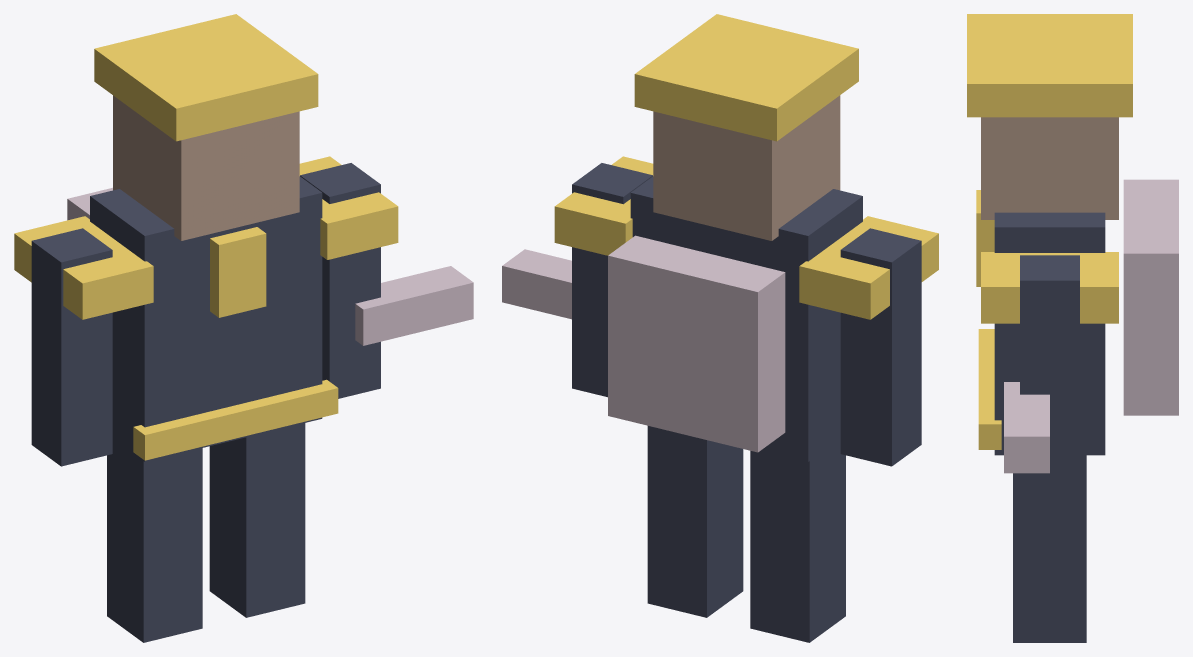
Rendered from 08_vexa_cinderholt_engineer_of_service.glb.
The picture shows the model from 3 angles, left to right: view 1: azimuth 30°, elevation 25°; view 2: azimuth 150°, elevation 25°; view 3: azimuth 270°, elevation 25°; orthographic projection.
Visible parts, largest first — view 1: Vexa Cinderholt, Engineer of Service; view 2: Vexa Cinderholt, Engineer of Service; view 3: Vexa Cinderholt, Engineer of Service.
Part boxes in pixels (x1,y1,x2,y2): Vexa Cinderholt, Engineer of Service: (14, 14, 473, 642); Vexa Cinderholt, Engineer of Service: (502, 14, 938, 642); Vexa Cinderholt, Engineer of Service: (967, 14, 1178, 642).
Size of the model in its own units: 1.11 by 1.44 by 0.4981.
